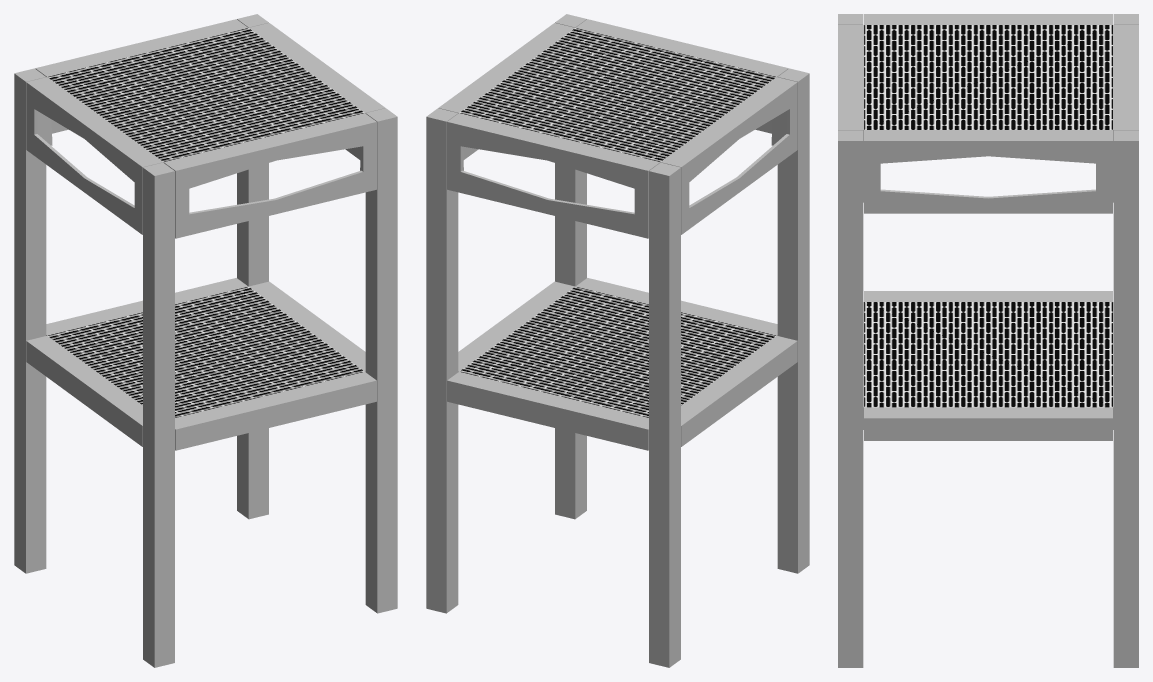
File: ObsStandDoubleR01.FBX
3 renders of one model, left to right at view 1: azimuth 30°, elevation 25°; view 2: azimuth 150°, elevation 25°; view 3: azimuth 270°, elevation 25°, orthographic. The views are drawn at different scales.
Parts seen in each view (by area): view 1: StandDouble08, StandDouble06, StandDouble07, StandDouble03, StandDouble05, StandDouble02, StandDouble01, StandDouble04; view 2: StandDouble08, StandDouble06, StandDouble07, StandDouble01, StandDouble05, StandDouble04, StandDouble03, StandDouble02; view 3: StandDouble07, StandDouble06, StandDouble08, StandDouble02, StandDouble04, StandDouble05.
Part boxes in pixels (x1=…): StandDouble08: x1=26, y1=19, x2=385, y2=238; StandDouble06: x1=48, y1=28, x2=364, y2=161; StandDouble07: x1=48, y1=286, x2=364, y2=417; StandDouble03: x1=143, y1=162, x2=174, y2=667; StandDouble05: x1=26, y1=278, x2=376, y2=450; StandDouble02: x1=365, y1=108, x2=397, y2=613; StandDouble01: x1=14, y1=68, x2=46, y2=573; StandDouble04: x1=237, y1=14, x2=268, y2=519; StandDouble08: x1=438, y1=19, x2=797, y2=238; StandDouble06: x1=459, y1=28, x2=775, y2=161; StandDouble07: x1=459, y1=286, x2=775, y2=417; StandDouble01: x1=649, y1=162, x2=680, y2=667; StandDouble05: x1=447, y1=278, x2=797, y2=450; StandDouble04: x1=426, y1=108, x2=458, y2=613; StandDouble03: x1=777, y1=68, x2=809, y2=573; StandDouble02: x1=555, y1=14, x2=586, y2=519; StandDouble07: x1=864, y1=302, x2=1112, y2=407; StandDouble06: x1=864, y1=25, x2=1112, y2=129; StandDouble08: x1=838, y1=14, x2=1138, y2=213; StandDouble02: x1=838, y1=130, x2=863, y2=667; StandDouble04: x1=1113, y1=130, x2=1138, y2=667; StandDouble05: x1=863, y1=291, x2=1113, y2=440.
Bounding box in the file's own units: 3 × 5.8 × 3.
